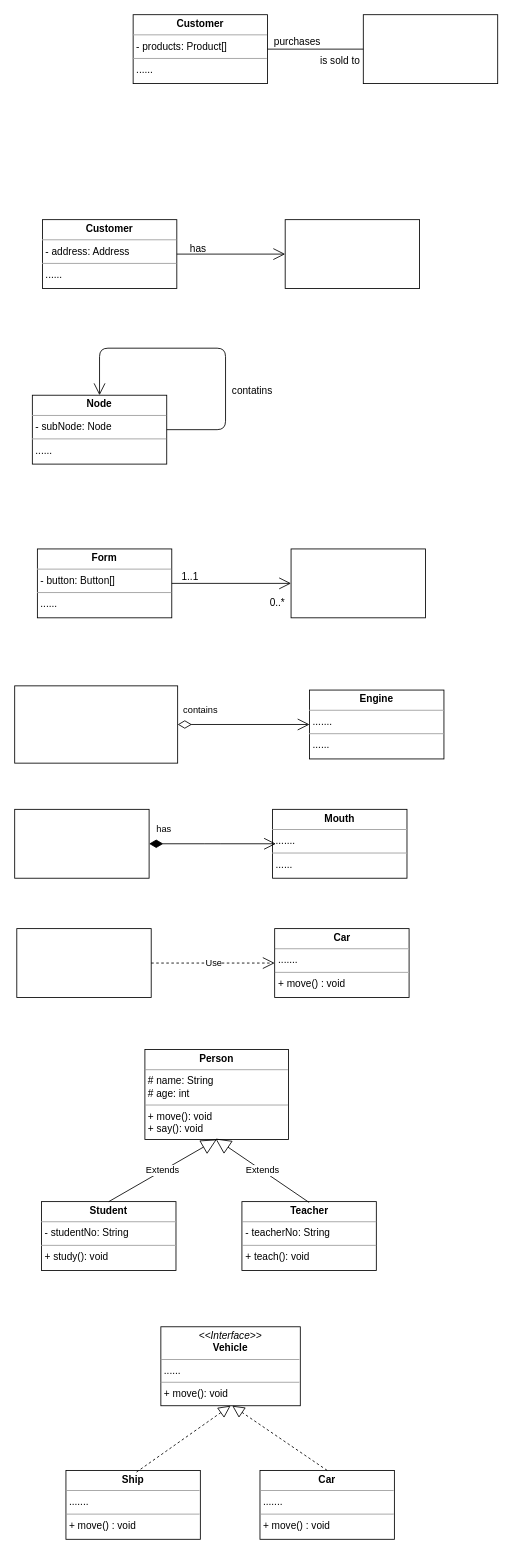
The diagram is 512 pixels wide and 1554 high, and some of its shapes have lost their labels. Each missing label, with the centre of its shape:
"Address - city: String ......" belongs at point (352, 254).
"Button - width: int ......" belongs at point (357, 583).
"Car - engine: Engine + Car(Engine engine) + setEngine(Engine engine):void" belongs at point (96, 724).
"Driver ....... + drive(Car car):void" belongs at point (83, 963).
"Head - mouth: Mouth + Head()" belongs at point (81, 843).
"Product - customer: Customer ......" belongs at point (430, 49).
